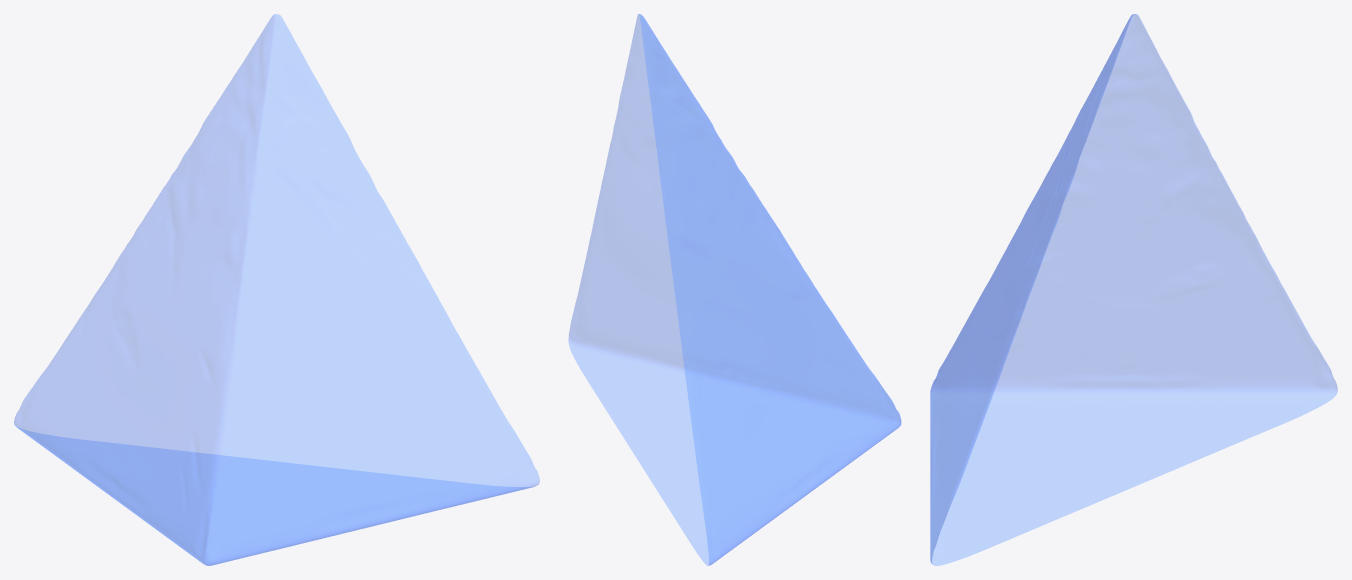
Rendered from sapphire_tetra.glb.
3 renders of one model, left to right at view 1: azimuth 30°, elevation 25°; view 2: azimuth 150°, elevation 25°; view 3: azimuth 270°, elevation 25°, orthographic. The views are drawn at different scales.
Parts seen in each view (by area): view 1: Tetra_Up; view 2: Tetra_Up; view 3: Tetra_Up.
Boxes of the visible parts, x1=… form: Tetra_Up: x1=14, y1=14, x2=539, y2=565; Tetra_Up: x1=568, y1=14, x2=901, y2=565; Tetra_Up: x1=930, y1=14, x2=1337, y2=565.
Size of the model in its own units: 1.49 by 1.9 by 1.49.
